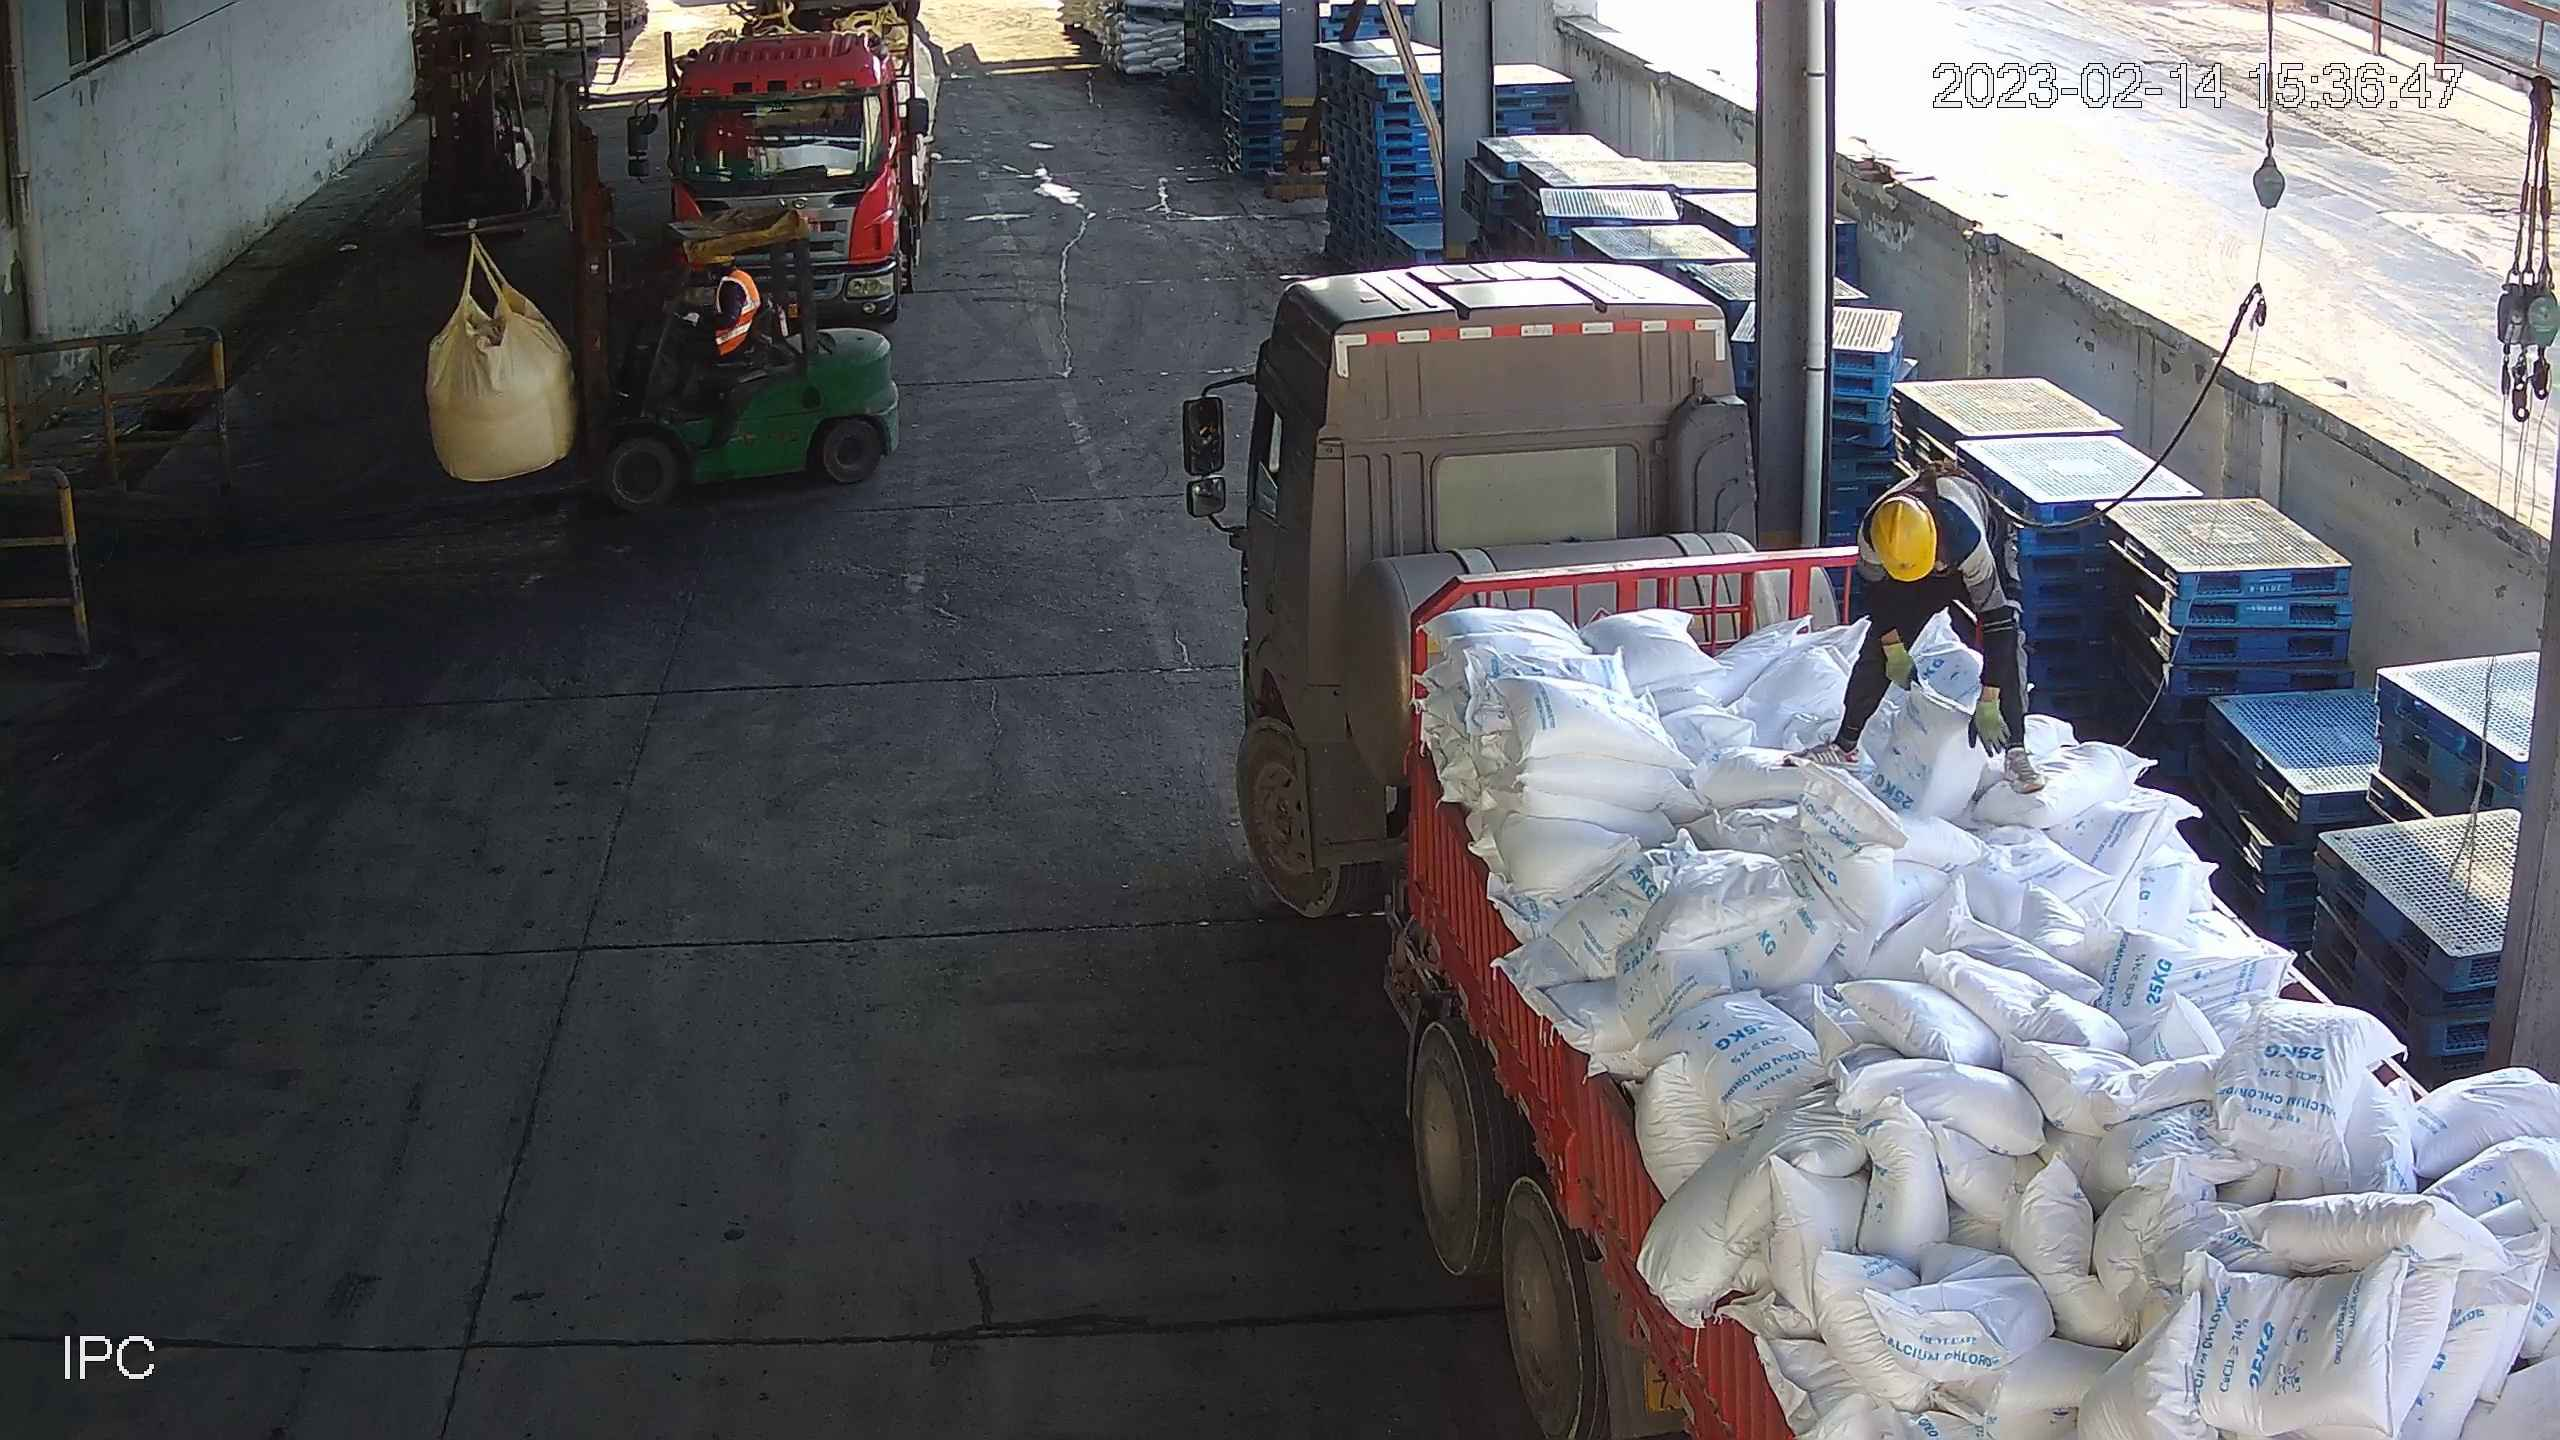belt: (1899, 445, 1981, 499)
head: (1857, 484, 1998, 634)
helmet: (1875, 499, 1946, 590)
people: (1831, 469, 2053, 803)
truck: (1196, 269, 2560, 1440), (653, 1, 951, 314)
